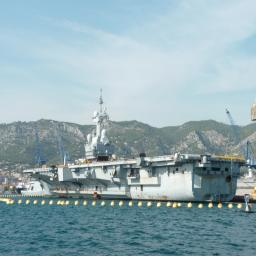Portanaves: (21, 85, 247, 203)
